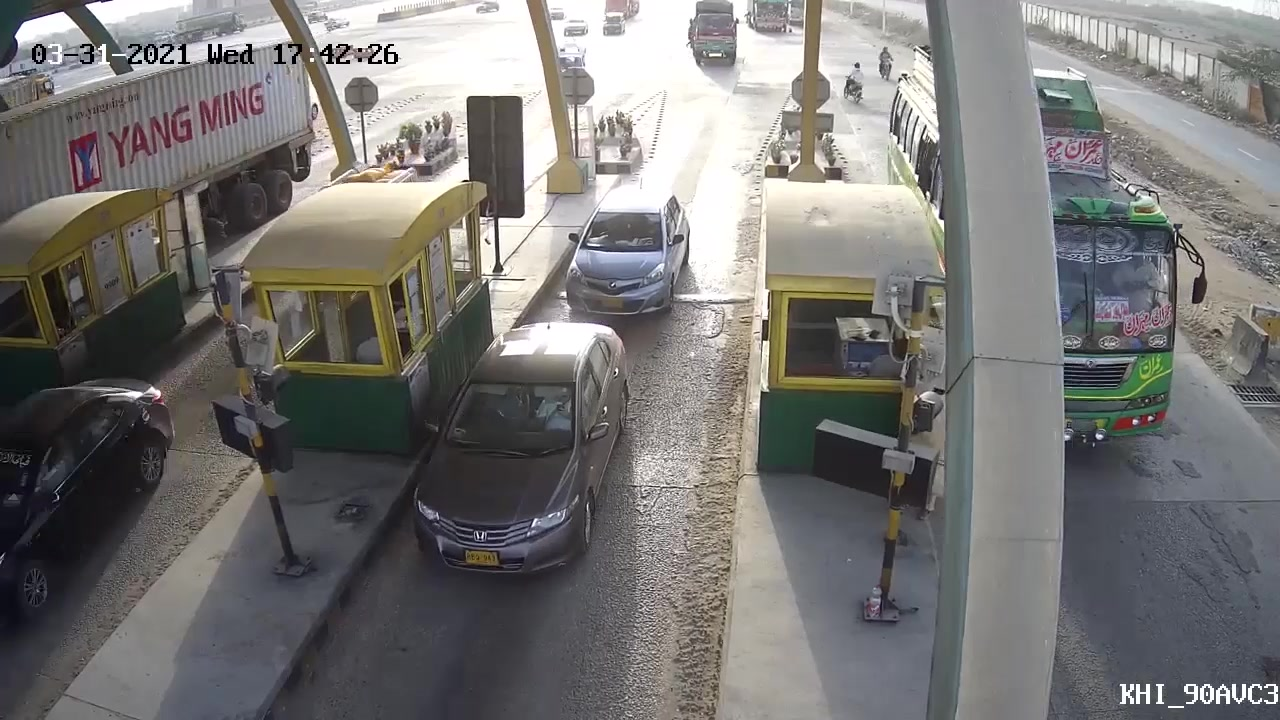F1: (408, 318, 631, 609), (559, 177, 695, 323)
